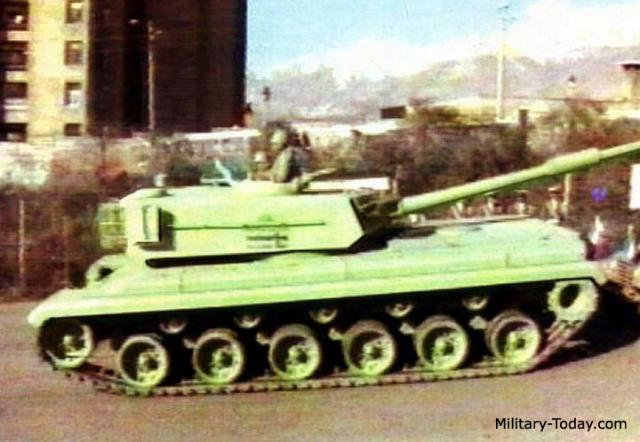other: (262, 127, 304, 177)
tank: (42, 173, 600, 369)
